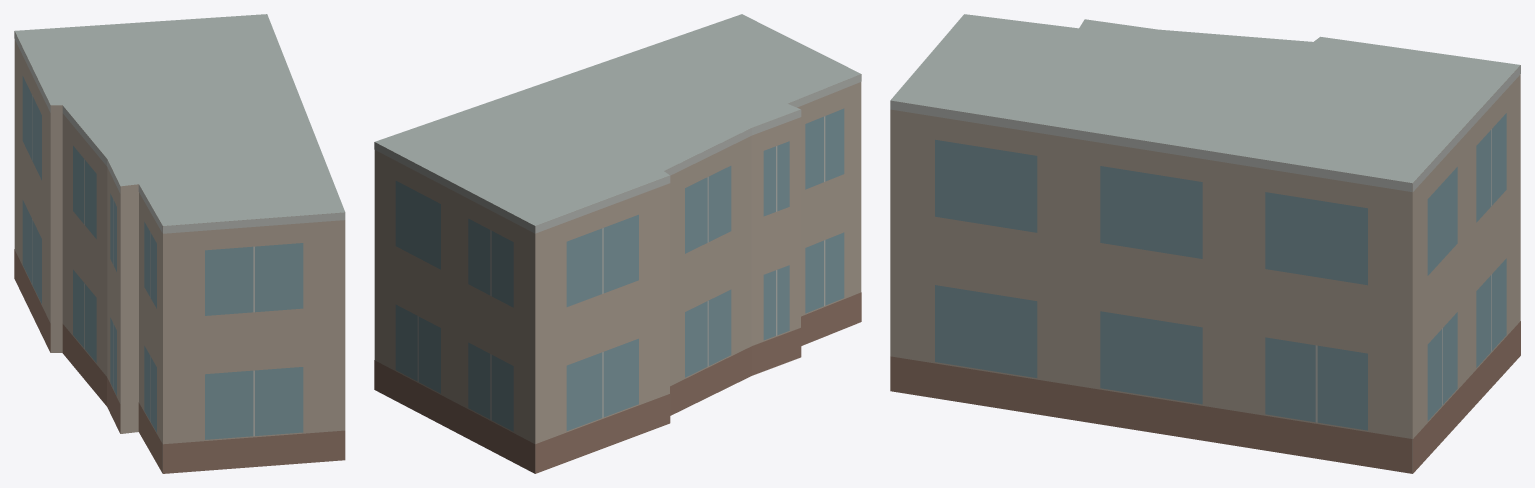
The model's file is survey-upis-33001982.glb.
3 views of the same model, side by side, from view 1: azimuth 30°, elevation 25°; view 2: azimuth 150°, elevation 25°; view 3: azimuth 270°, elevation 25° (orthographic). The views are drawn at different scales.
Parts seen in each view (by area): view 1: survey-upis-33001982.tmp; view 2: survey-upis-33001982.tmp; view 3: survey-upis-33001982.tmp.
Boxes of the visible parts, <box> form: survey-upis-33001982.tmp: <box>14,14,345,473</box>; survey-upis-33001982.tmp: <box>374,14,861,473</box>; survey-upis-33001982.tmp: <box>890,14,1520,473</box>.
Size of the model in its own units: 9.81 by 7.85 by 15.45.
